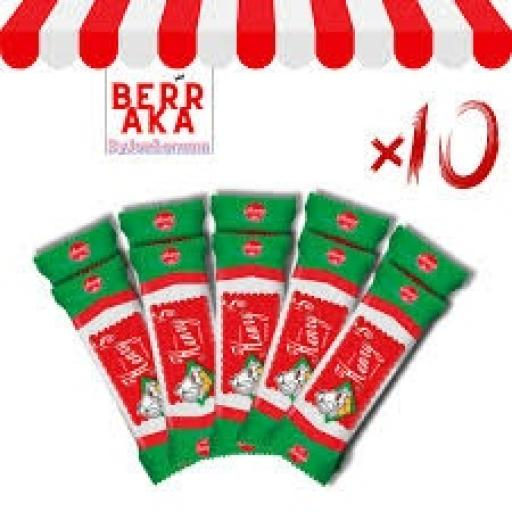henry-s: (307, 180, 512, 512)
